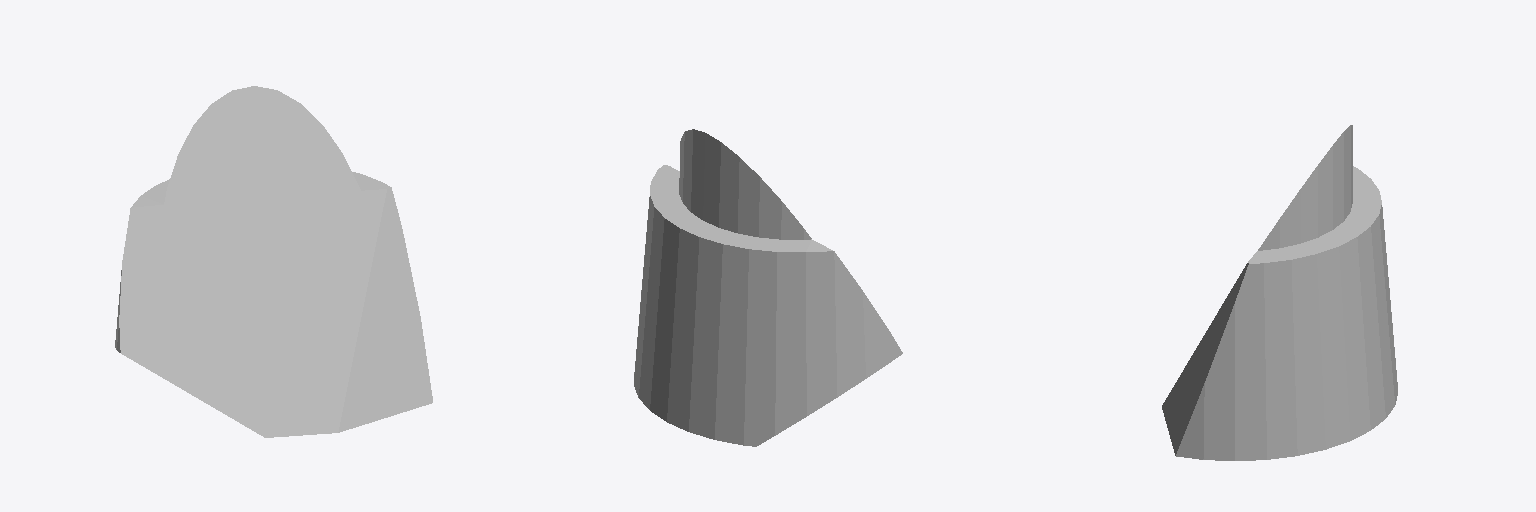
The model's file is torii_broken_038.obj.
The picture shows the model from 3 angles: view 1: azimuth 30°, elevation 25°; view 2: azimuth 150°, elevation 25°; view 3: azimuth 270°, elevation 25°; orthographic projection.
Parts seen in each view (by area): view 1: 鳥居.001_cell.038_鳥居.001_cell.024; view 2: 鳥居.001_cell.038_鳥居.001_cell.024; view 3: 鳥居.001_cell.038_鳥居.001_cell.024.
Part boxes in pixels (bbox=[...]): 鳥居.001_cell.038_鳥居.001_cell.024: bbox=[115, 86, 432, 437]; 鳥居.001_cell.038_鳥居.001_cell.024: bbox=[634, 129, 902, 446]; 鳥居.001_cell.038_鳥居.001_cell.024: bbox=[1162, 125, 1397, 460].
Bounding box in the file's own units: 0.4245 × 0.4176 × 0.3217.